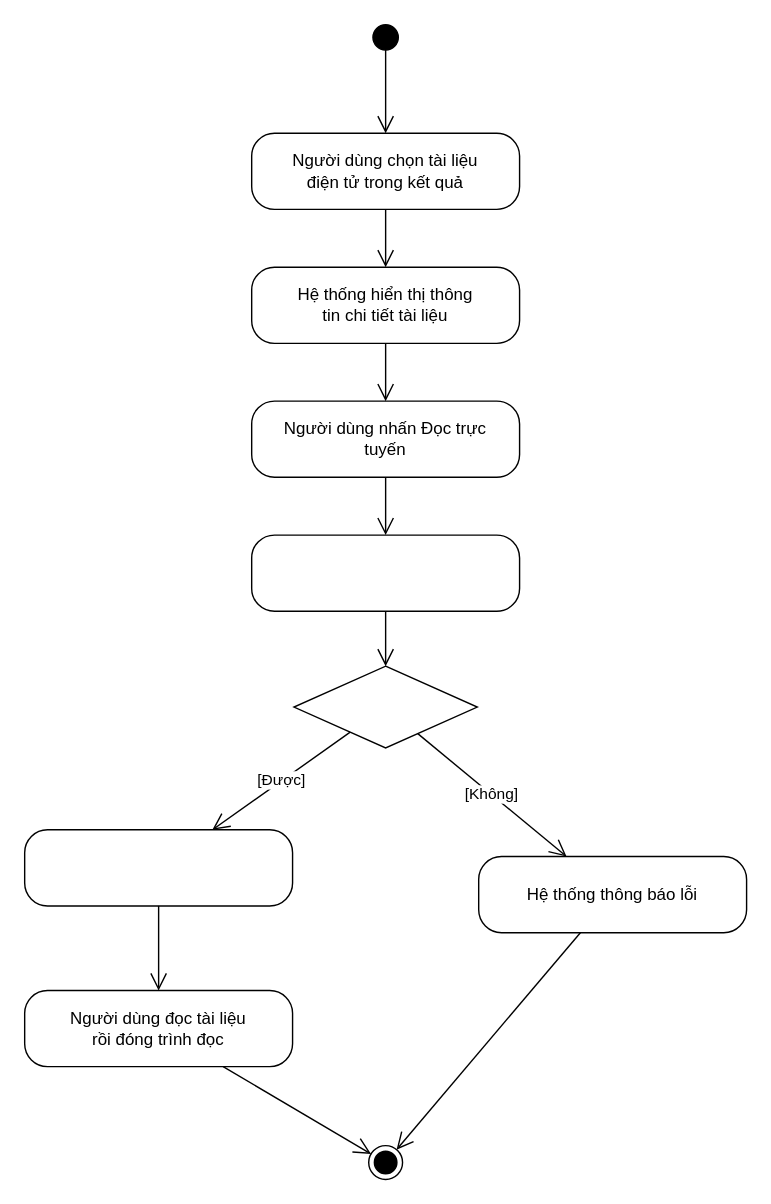
Image size: 771x1204. Some labels were removed from this diagram. The shapes that lost their labels are listed below. From the top down, each one's centre as x and y in pixels, then its label:
At (385,572): "Hệ thống lấy tệp tài liệu".
At (385,706): "Mở được tệp?".
At (158,867): "Hệ thống hiển thị nội dung trong trình đọc".
